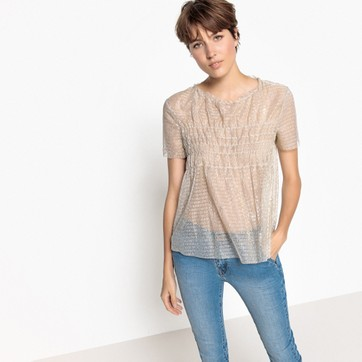C_jeans: (172, 255, 303, 362)
C_short blouse: (160, 76, 301, 267)
